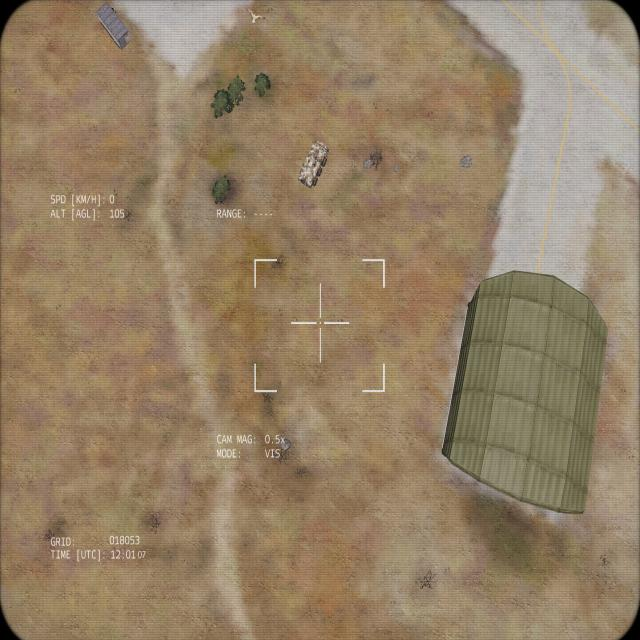apc: (296, 138, 328, 188)
